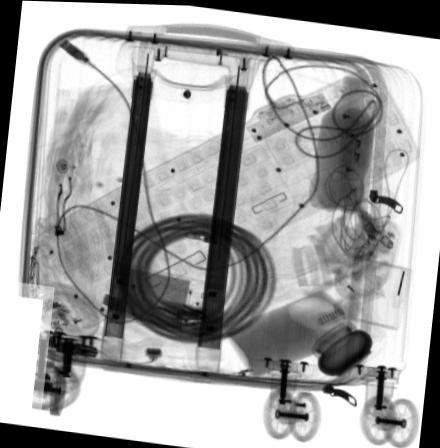Powerbank: (109, 261, 225, 338)
